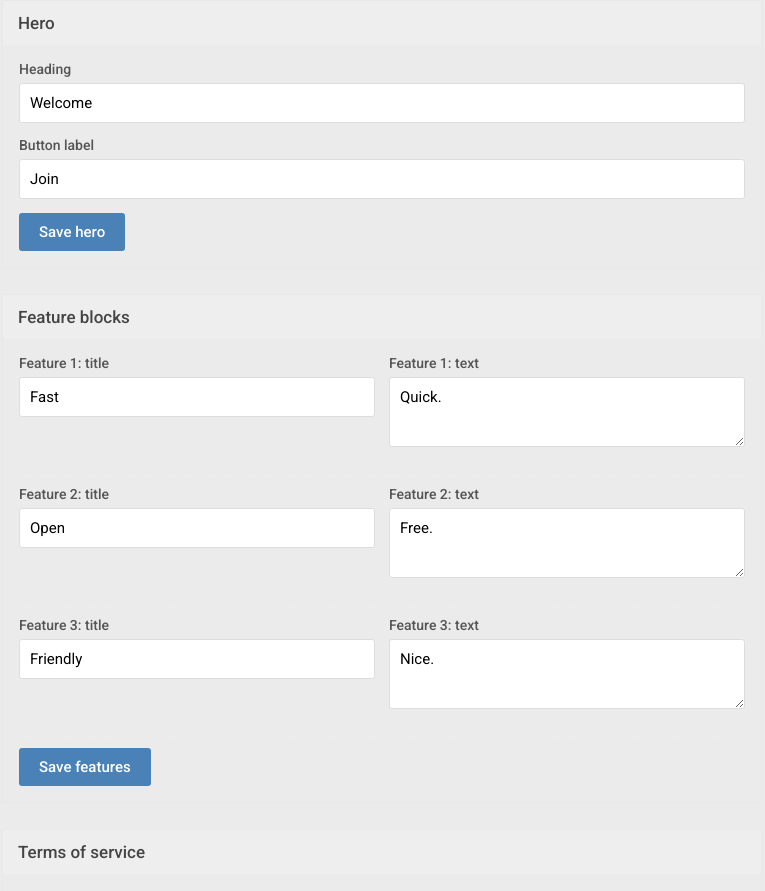
saving the hero PUTs the whole document, keeping the features
Replace the text in the field labelled "Heading" with "Hello world" at coordinates (382, 103), box [19,83,745,123]
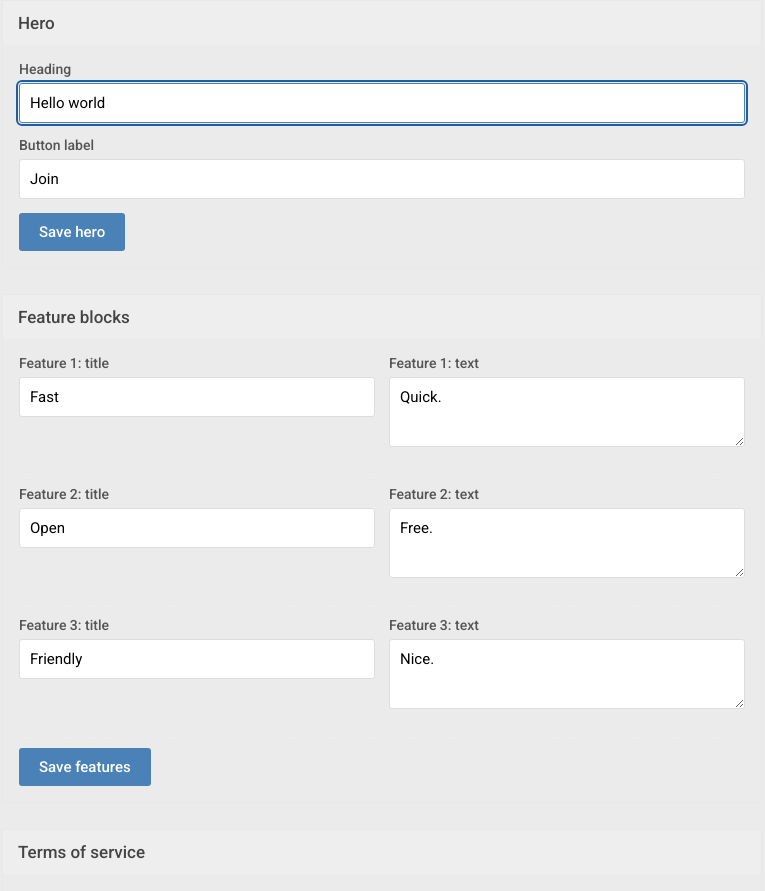
Click the button "Save hero" at coordinates (72, 232), box [19,213,125,251]
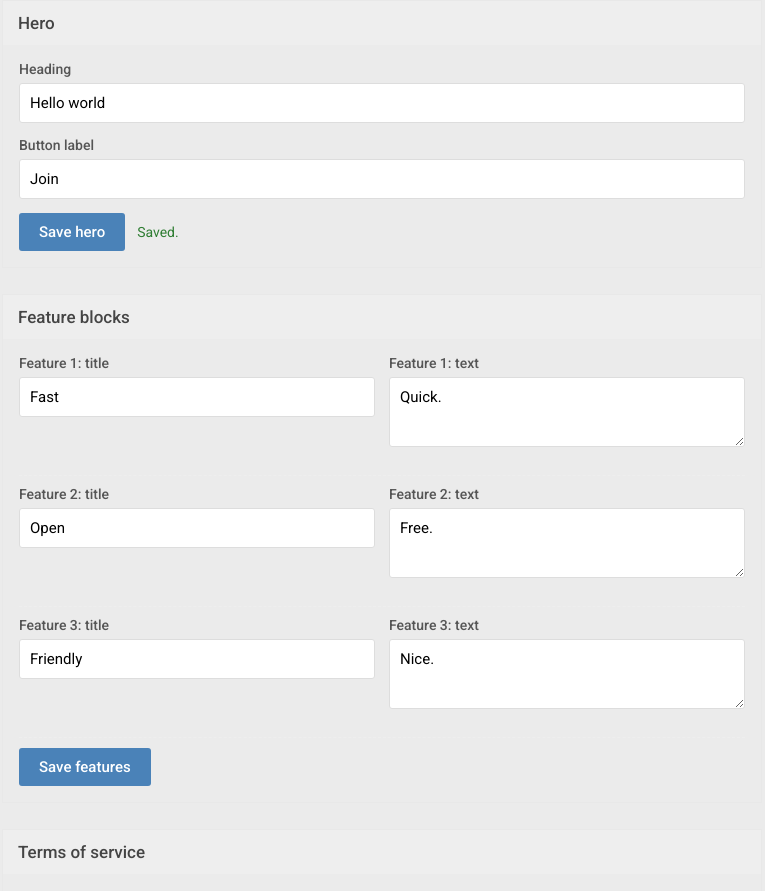
Expected: the text "Saved." is shown, [137,224,179,240]
